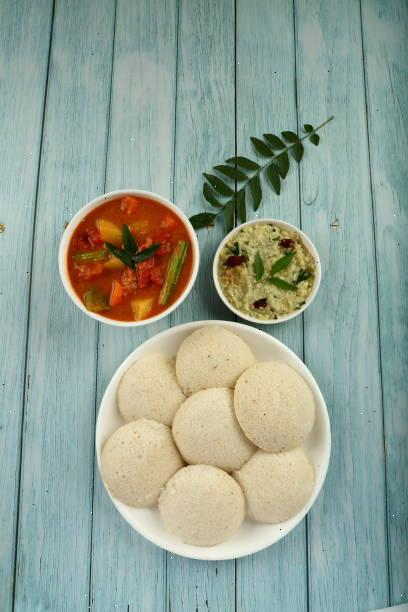coconut chutney: (233, 223, 328, 297)
idli: (117, 335, 306, 547)
sambhar: (63, 206, 158, 300)
